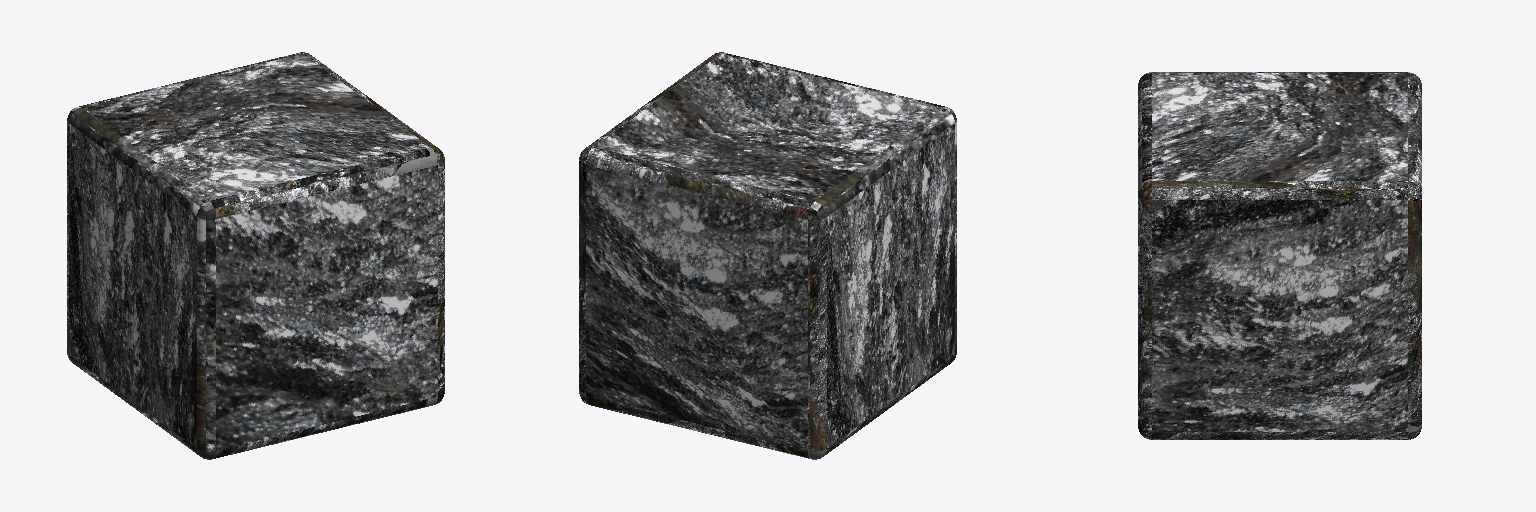
3 renders of one model, left to right at view 1: azimuth 30°, elevation 25°; view 2: azimuth 150°, elevation 25°; view 3: azimuth 270°, elevation 25°, orthographic.
Visible parts, largest first — view 1: Cube; view 2: Cube; view 3: Cube.
Part boxes in pixels (left/top/right/bottom): Cube: left=67, top=52, right=444, bottom=459; Cube: left=579, top=52, right=956, bottom=459; Cube: left=1138, top=72, right=1421, bottom=439.
Bounding box in the file's own units: 2 × 2 × 2.
1 materials, 1 textured.